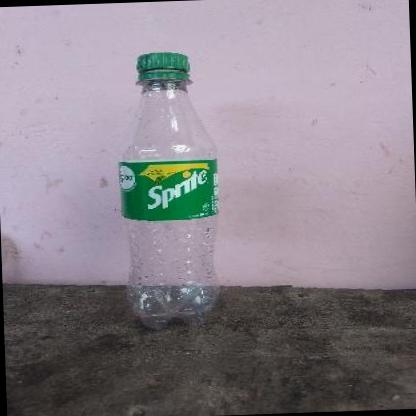plastic_bottles: (119, 47, 228, 330)
